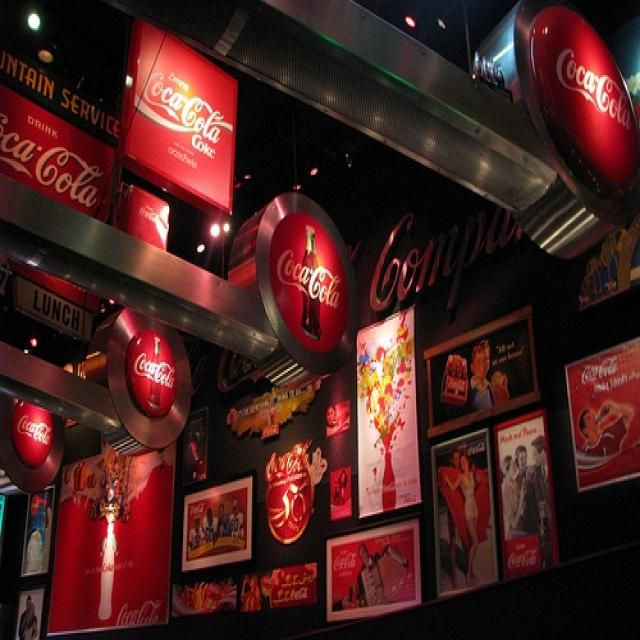cocacola: (2, 113, 105, 211), (555, 46, 637, 141), (143, 69, 235, 146), (277, 251, 348, 314), (133, 351, 179, 391), (19, 415, 55, 454)
